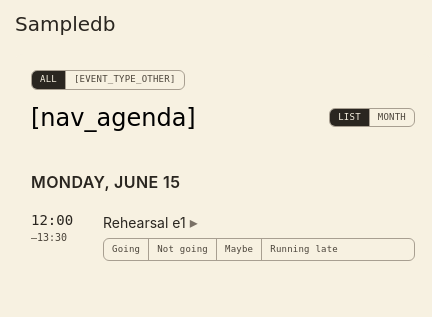
+page — the failure path is byte-preserved, and failure never announces saved › a failure AFTER an earlier saved clears the stale cue — error and saved never show together
Click the button with test id "rsvp-btn-going" at [127, 249], box [104,238,149,260]
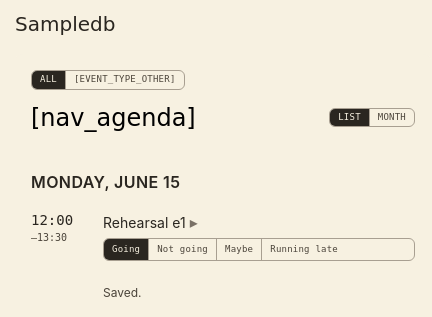
Check: the message with test id "rsvp-saved-status" reads "Saved.", box [103,285,142,300]
Click the button "Maybe" at [240, 249], box [217,238,262,260]
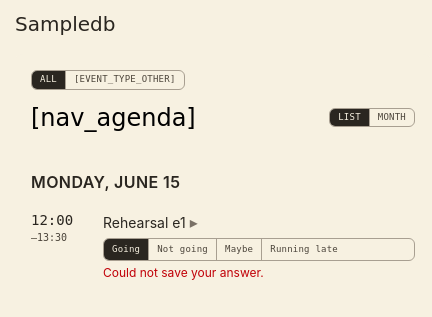
Check: the message "Could not save your answer." is shown, box [103,265,264,280]
